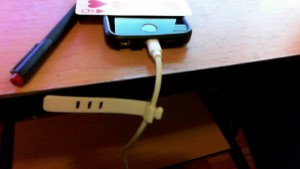NineOfHearts: (72, 1, 196, 18)
